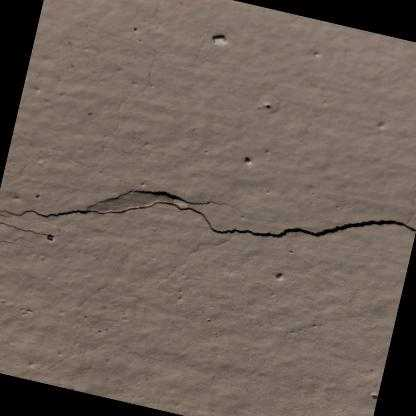crack: (0, 201, 416, 238), (84, 190, 235, 209), (0, 221, 61, 237), (0, 236, 34, 244)
